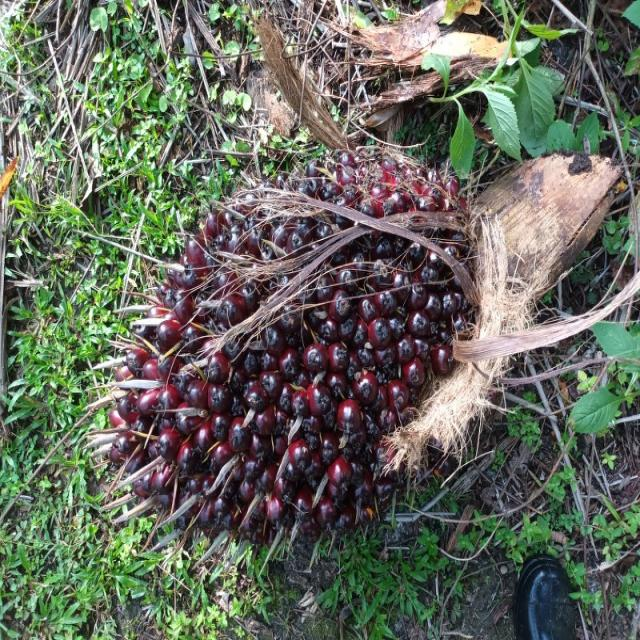fraksi 1: (110, 65, 524, 570)
